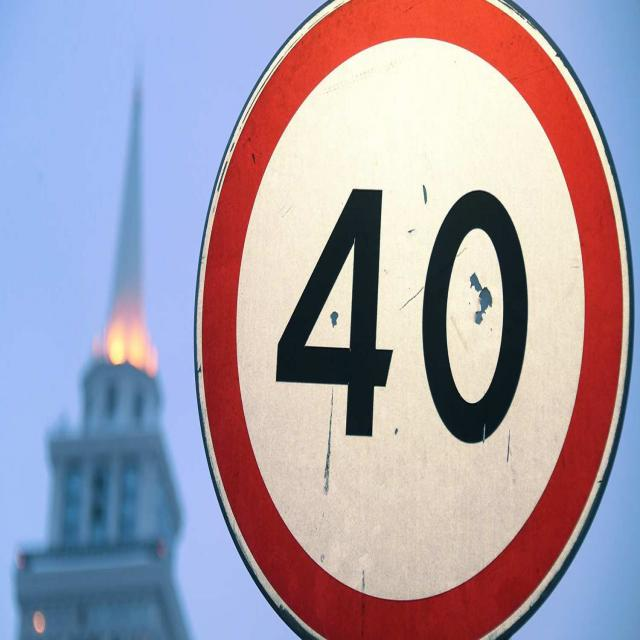speed limit 40: (188, 0, 636, 640)
